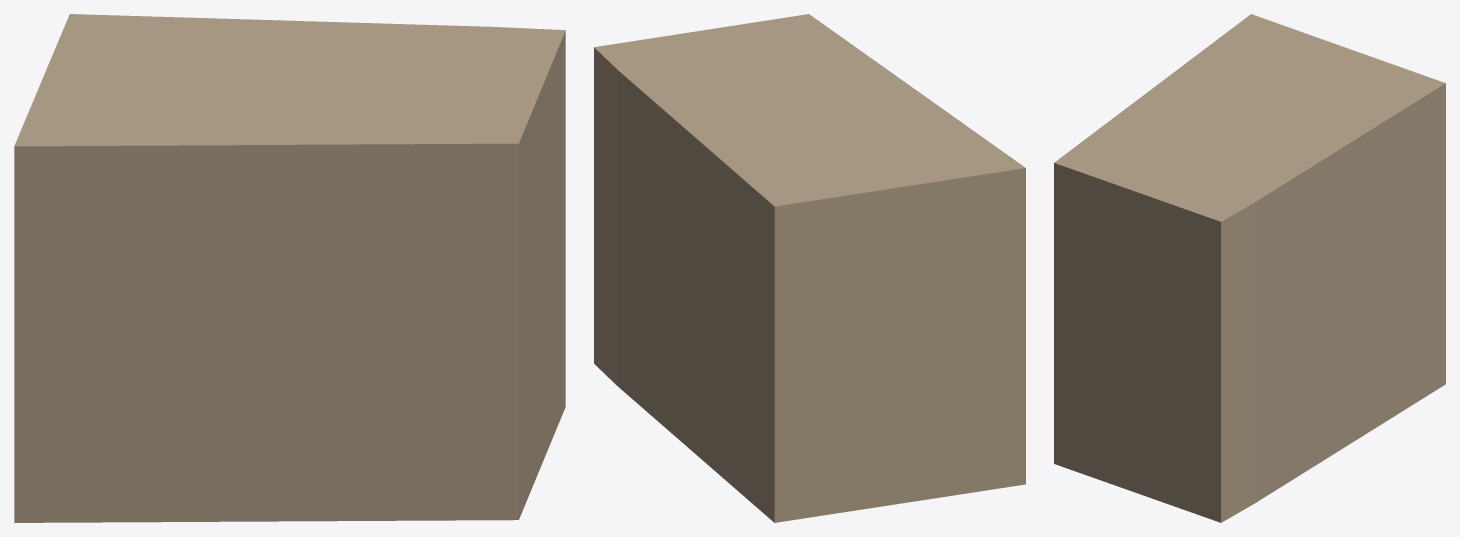
Rendered from bld_101791634.dae.
3 views of the same model, side by side, from view 1: azimuth 30°, elevation 25°; view 2: azimuth 150°, elevation 25°; view 3: azimuth 270°, elevation 25° (orthographic). The views are drawn at different scales.
Visible parts, largest first — view 1: bld_101791634; view 2: bld_101791634; view 3: bld_101791634.
Part boxes in pixels (x1,y1,x2,y2): bld_101791634: (14,14,565,522); bld_101791634: (594,14,1025,522); bld_101791634: (1054,14,1445,522).
Bounding box in the file's own units: 11.85 × 9.44 × 8.
